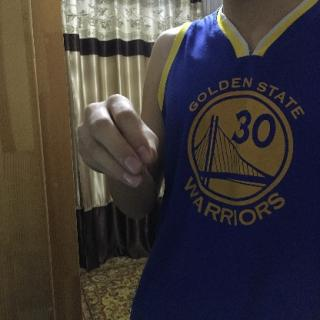HA: (73, 90, 168, 194)
